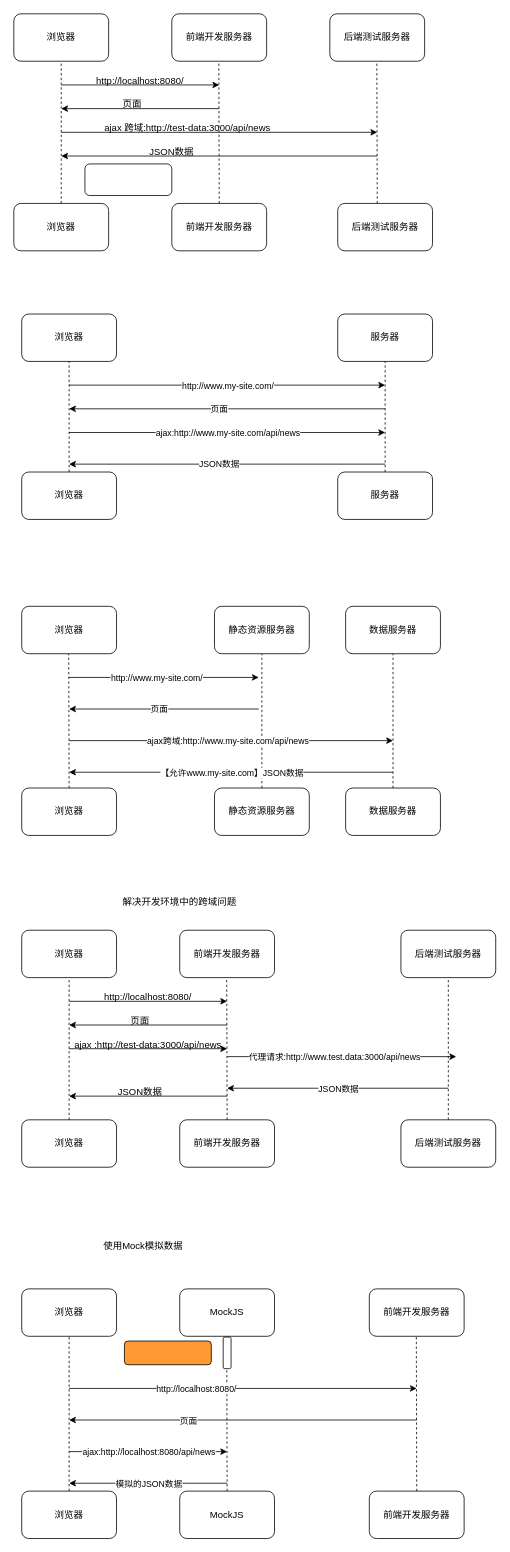
This 510x1552 diagram has some shape labels left out. The shapes that lost their labels are listed below. From the top down, each one's centre as x and y in pixels, then its label:
(x=128, y=179): 浏览器阻止数据移交
(x=167, y=1352): 定义ajax拦截规则
